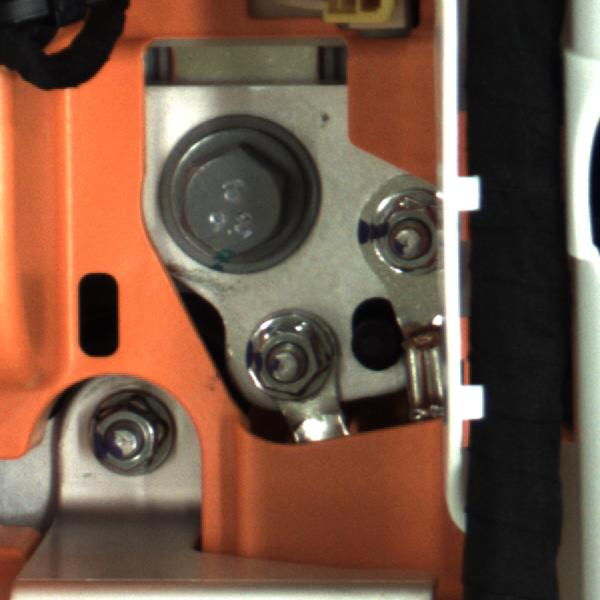nut_b: (151, 126, 331, 265)
screw_s: (240, 306, 352, 403), (79, 383, 182, 484), (367, 183, 445, 282)
